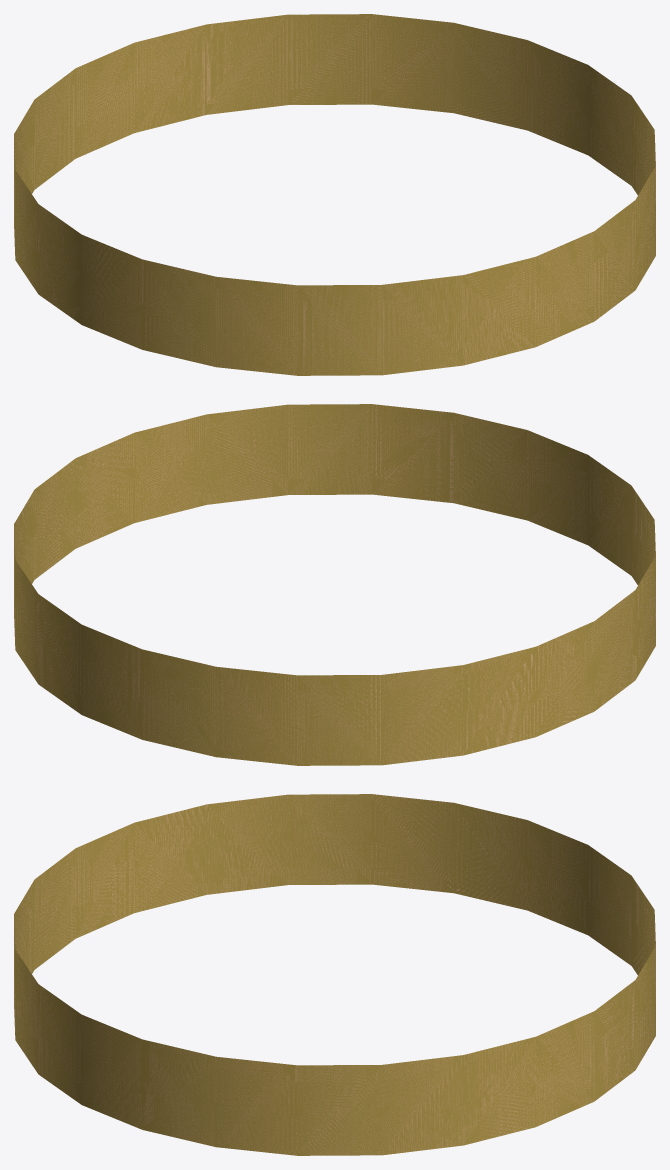
File: original-117.obj
3 renders of one model, top to bottom at view 1: azimuth 30°, elevation 25°; view 2: azimuth 150°, elevation 25°; view 3: azimuth 270°, elevation 25°, orthographic.
Parts seen in each view (by area): view 1: 3dw.47c68395a5775e10d9deb3f829cc2475/Model/Component_18_1/Compon; view 2: 3dw.47c68395a5775e10d9deb3f829cc2475/Model/Component_18_1/Compon; view 3: 3dw.47c68395a5775e10d9deb3f829cc2475/Model/Component_18_1/Compon.
Part boxes in pixels (x1=…): 3dw.47c68395a5775e10d9deb3f829cc2475/Model/Component_18_1/Compon: x1=14, y1=14, x2=655, y2=375; 3dw.47c68395a5775e10d9deb3f829cc2475/Model/Component_18_1/Compon: x1=14, y1=404, x2=655, y2=765; 3dw.47c68395a5775e10d9deb3f829cc2475/Model/Component_18_1/Compon: x1=14, y1=794, x2=655, y2=1155.
Bounding box in the file's own units: 0.2098 × 0.0326 × 0.2098.
